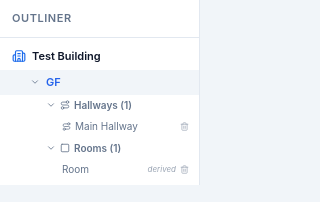
Test: legacy hallway outliner item › lists a legacy hallway as a row under the Hallways floor group
Expected: the text "Main Hallway" is shown, [75,120,138,132]
Click the button with aria-label "Collapse Hallways": (120, 105) [40,94,199,116]
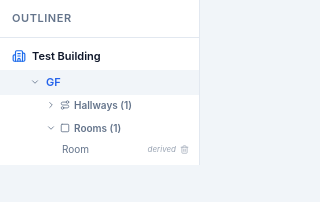
Now the text "Main Hallway" is gone
Click the button with aria-label "Expand Hallways": (120, 105) [40,94,199,116]
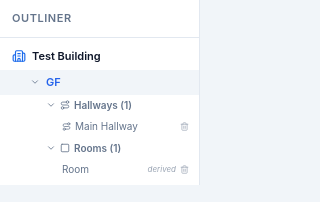
Now the text "Main Hallway" is shown, box [75,120,138,132]
